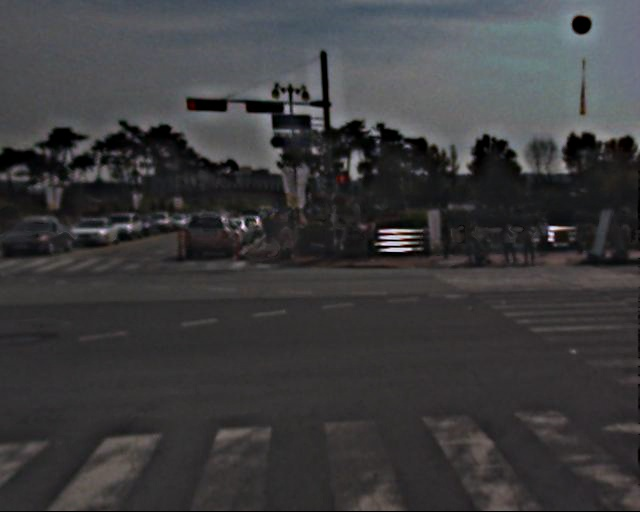person: (462, 215, 483, 267), (322, 212, 343, 263), (440, 216, 461, 267), (364, 213, 385, 263), (263, 210, 299, 238), (502, 222, 520, 266), (536, 216, 554, 260), (617, 213, 635, 257), (524, 219, 542, 262)
